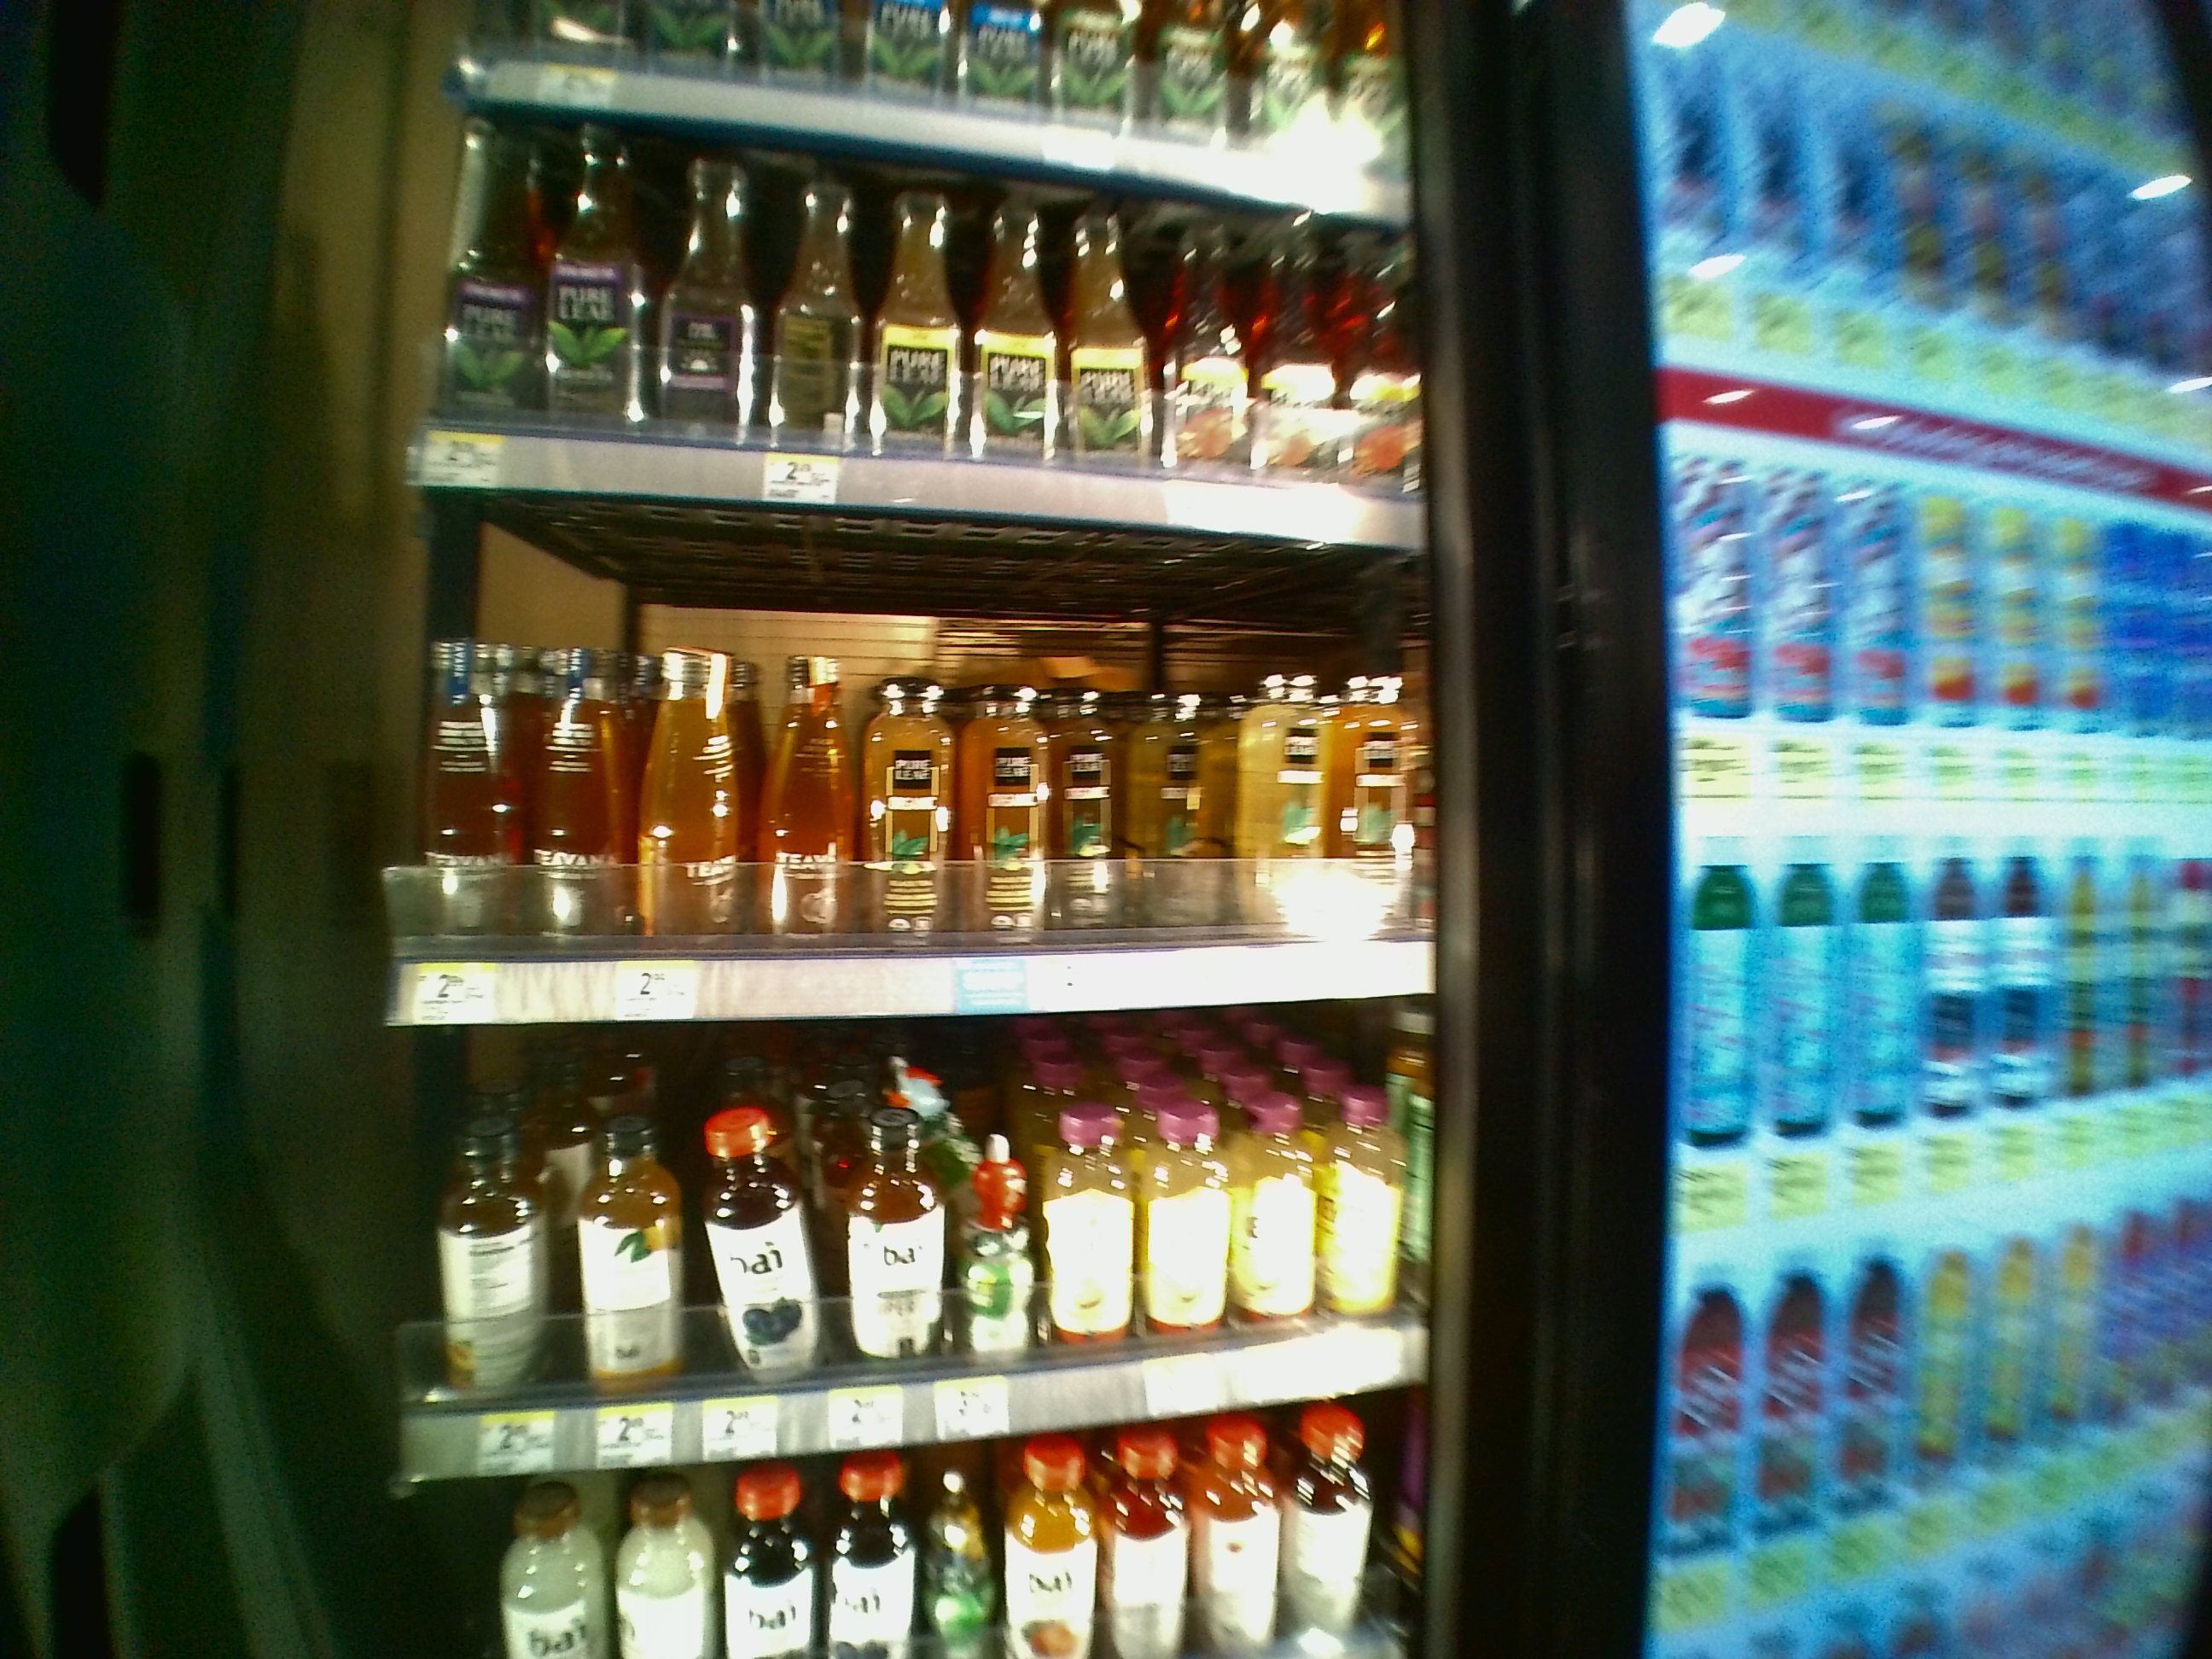shelf: (383, 493, 1433, 1025), (392, 1033, 1440, 1490)
